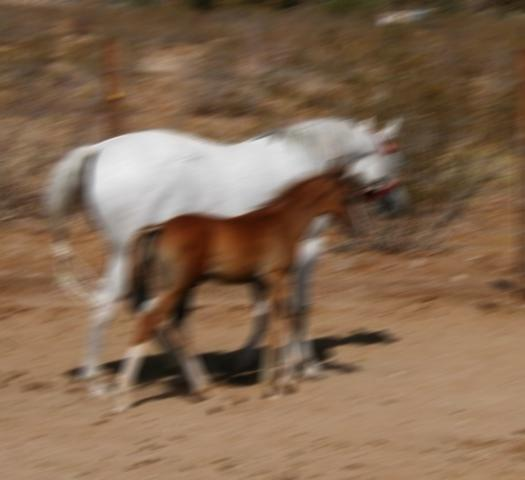horse: (40, 114, 408, 404)
